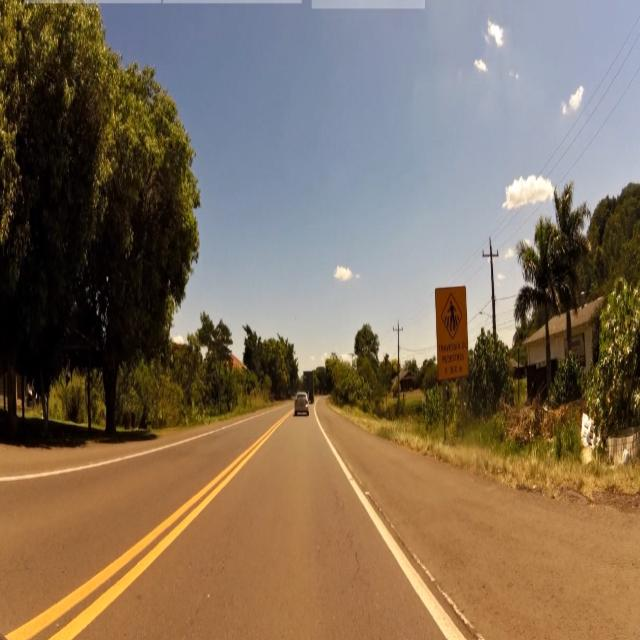A-32b: (440, 295, 466, 338)
